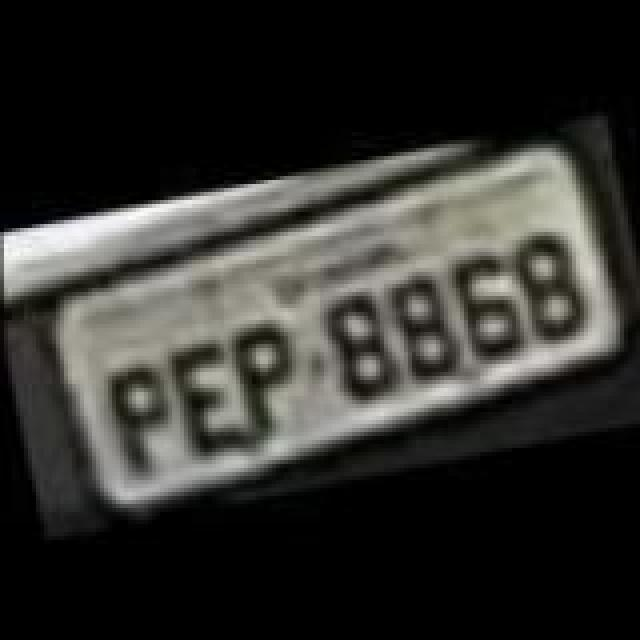6: (446, 236, 534, 364)
8: (506, 218, 590, 338), (376, 260, 460, 380), (314, 280, 394, 396)
E: (158, 334, 250, 462)
P: (226, 314, 310, 442), (100, 352, 184, 480)
